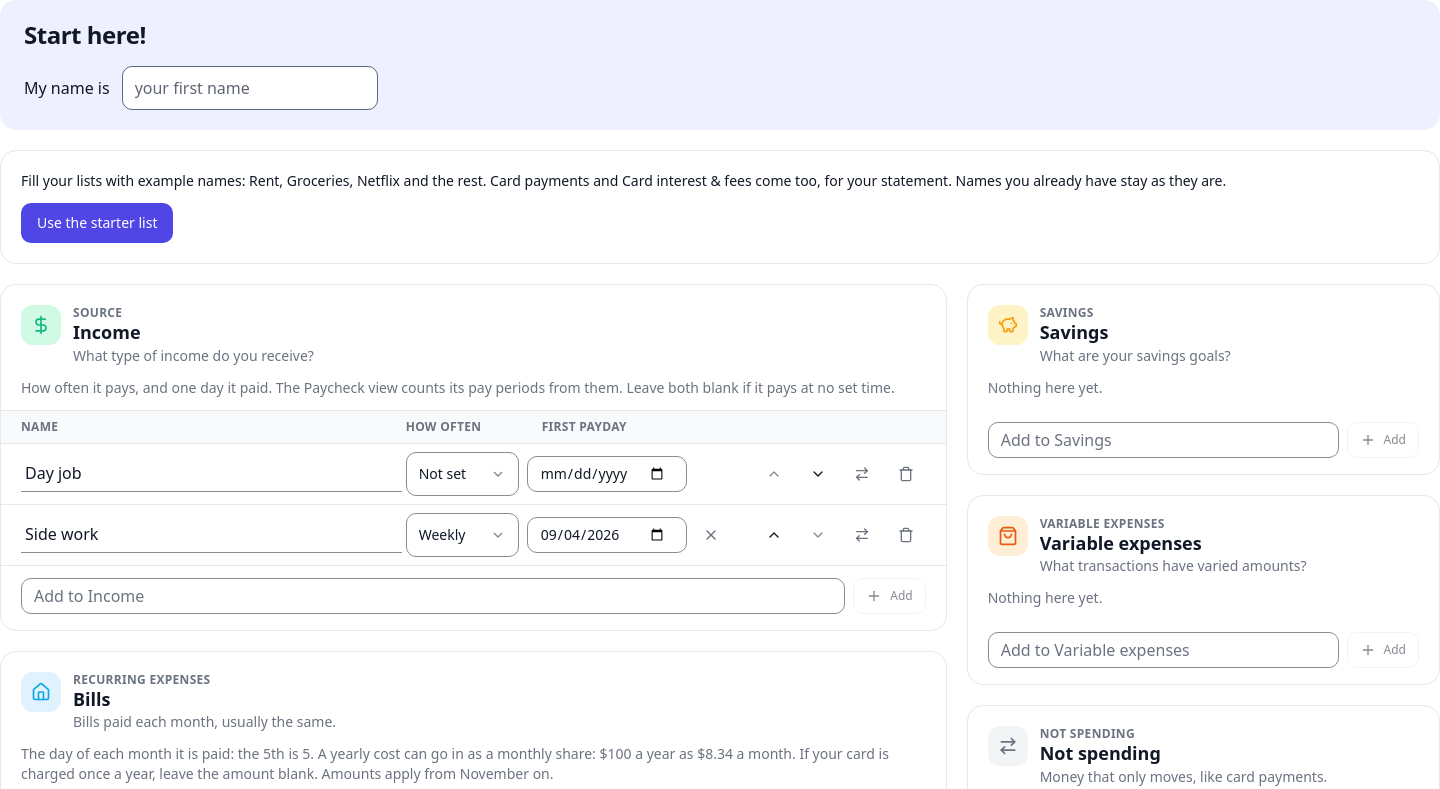
Test case: Lists, when income is paid › replaces a schedule typed over, and Clear removes it
Select "Monthly" in the dropdown named "How often Side work pays" at (462, 534), box [406, 512, 519, 556]
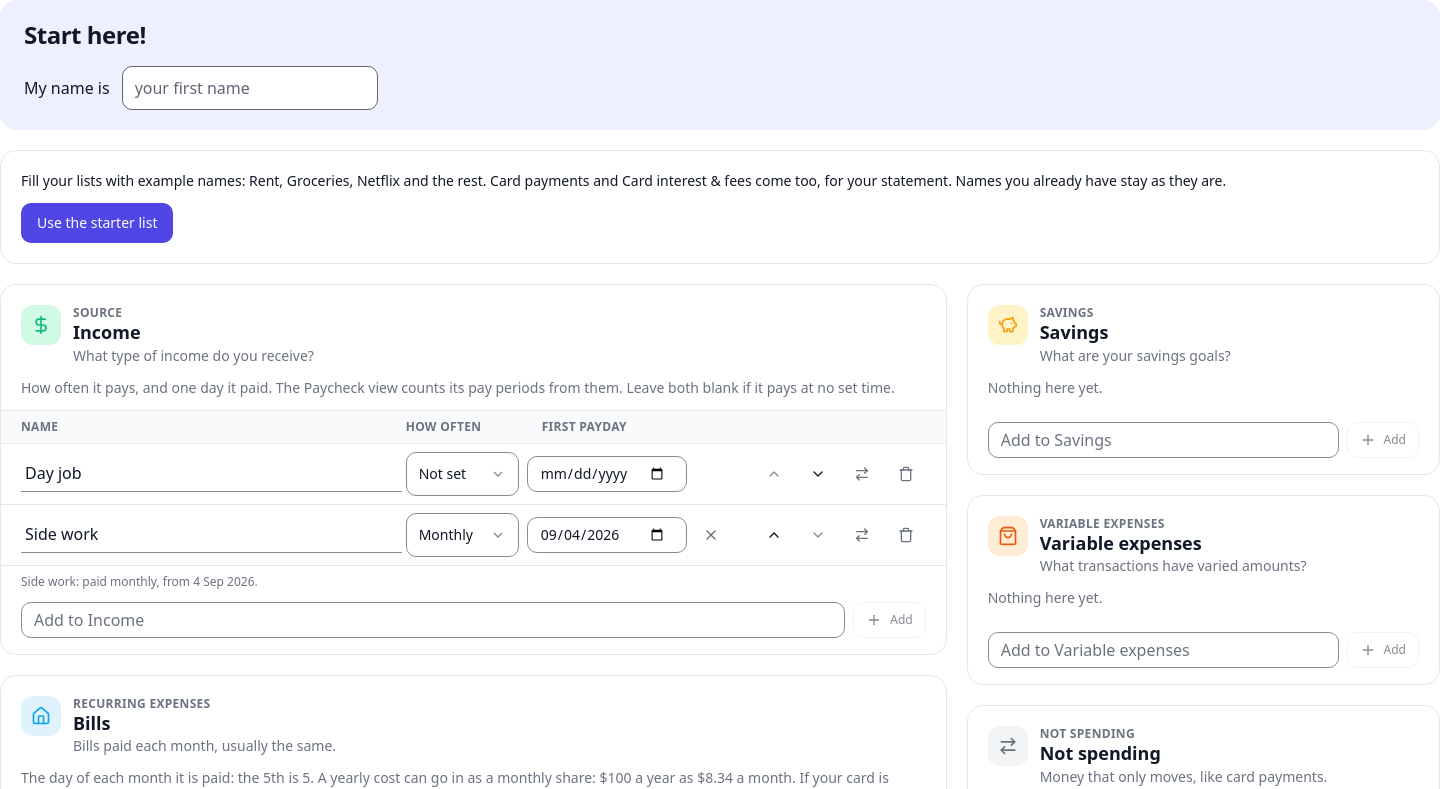
Click the button named "Clear when Side work pays" at (711, 534), box [691, 514, 731, 554]
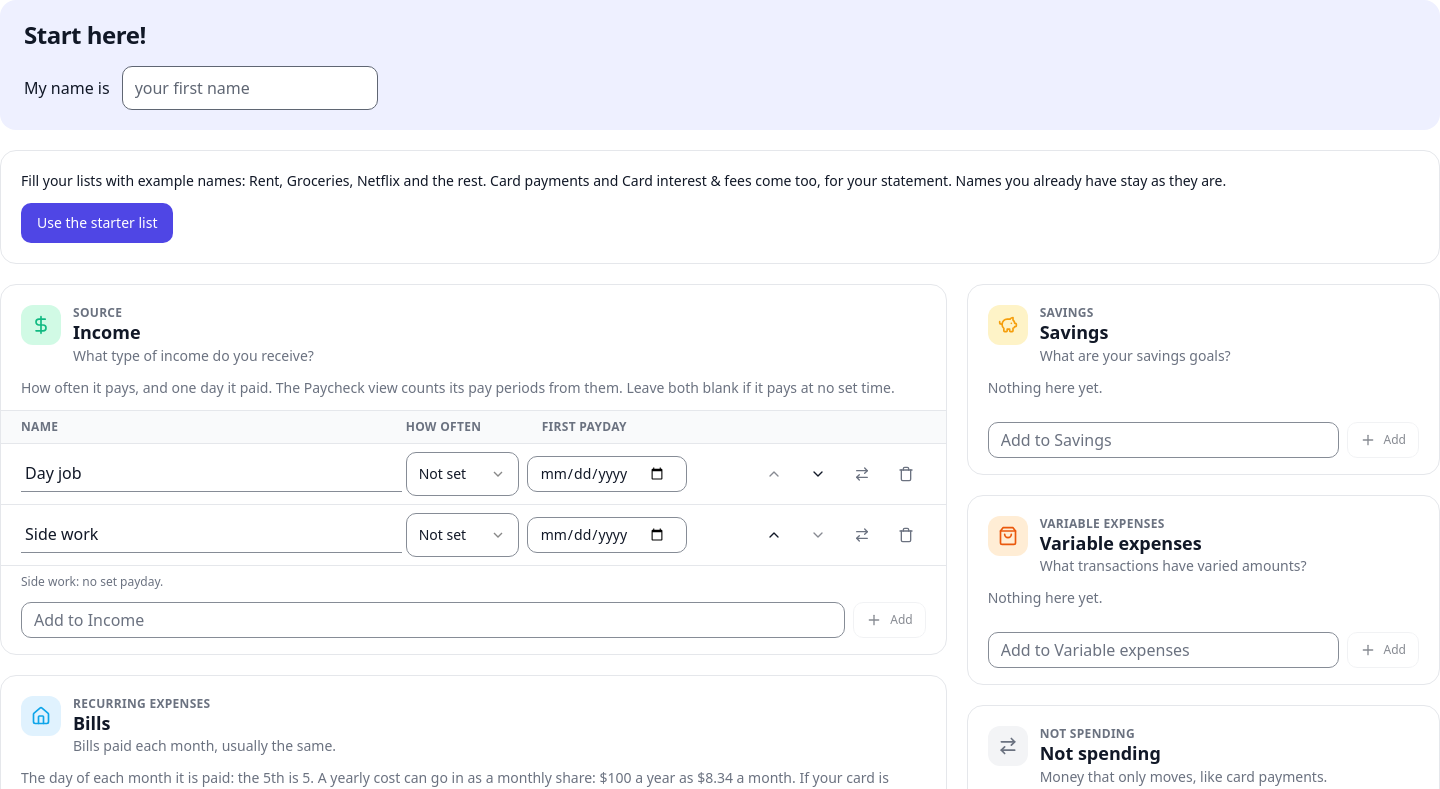
Check: the message reads "Side work: no set payday.", box [21, 572, 163, 590]
Check: the date field named "First payday for Side work" is empty, box [527, 516, 687, 552]
